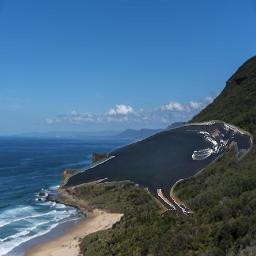Crow: (59, 120, 253, 220)
